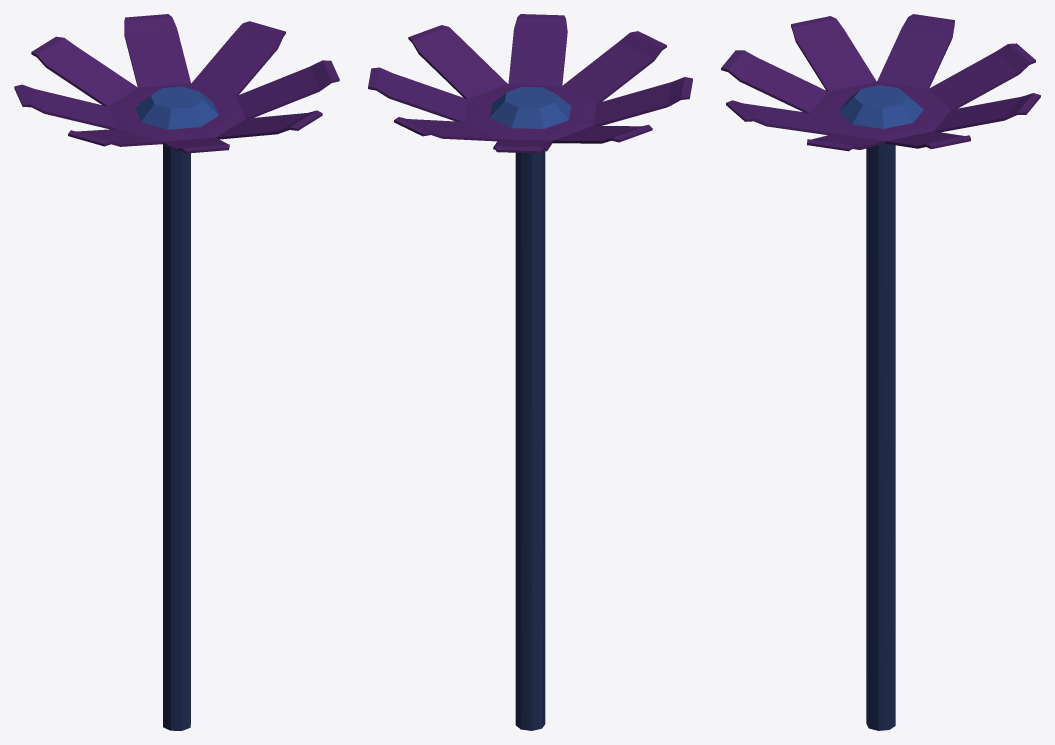
Rendered from Flowers_Daisy05.fbx.
The picture shows the model from 3 angles, left to right: view 1: azimuth 30°, elevation 25°; view 2: azimuth 150°, elevation 25°; view 3: azimuth 270°, elevation 25°; orthographic projection.
Visible parts, largest first — view 1: Cylinder.053; view 2: Cylinder.053; view 3: Cylinder.053.
Part boxes in pixels (box(x1,y1,x2,y2)): Cylinder.053: box(14, 14, 339, 730); Cylinder.053: box(368, 14, 692, 730); Cylinder.053: box(721, 14, 1040, 730).
Bounding box in the file's own units: 12.16 × 27 × 12.16.
